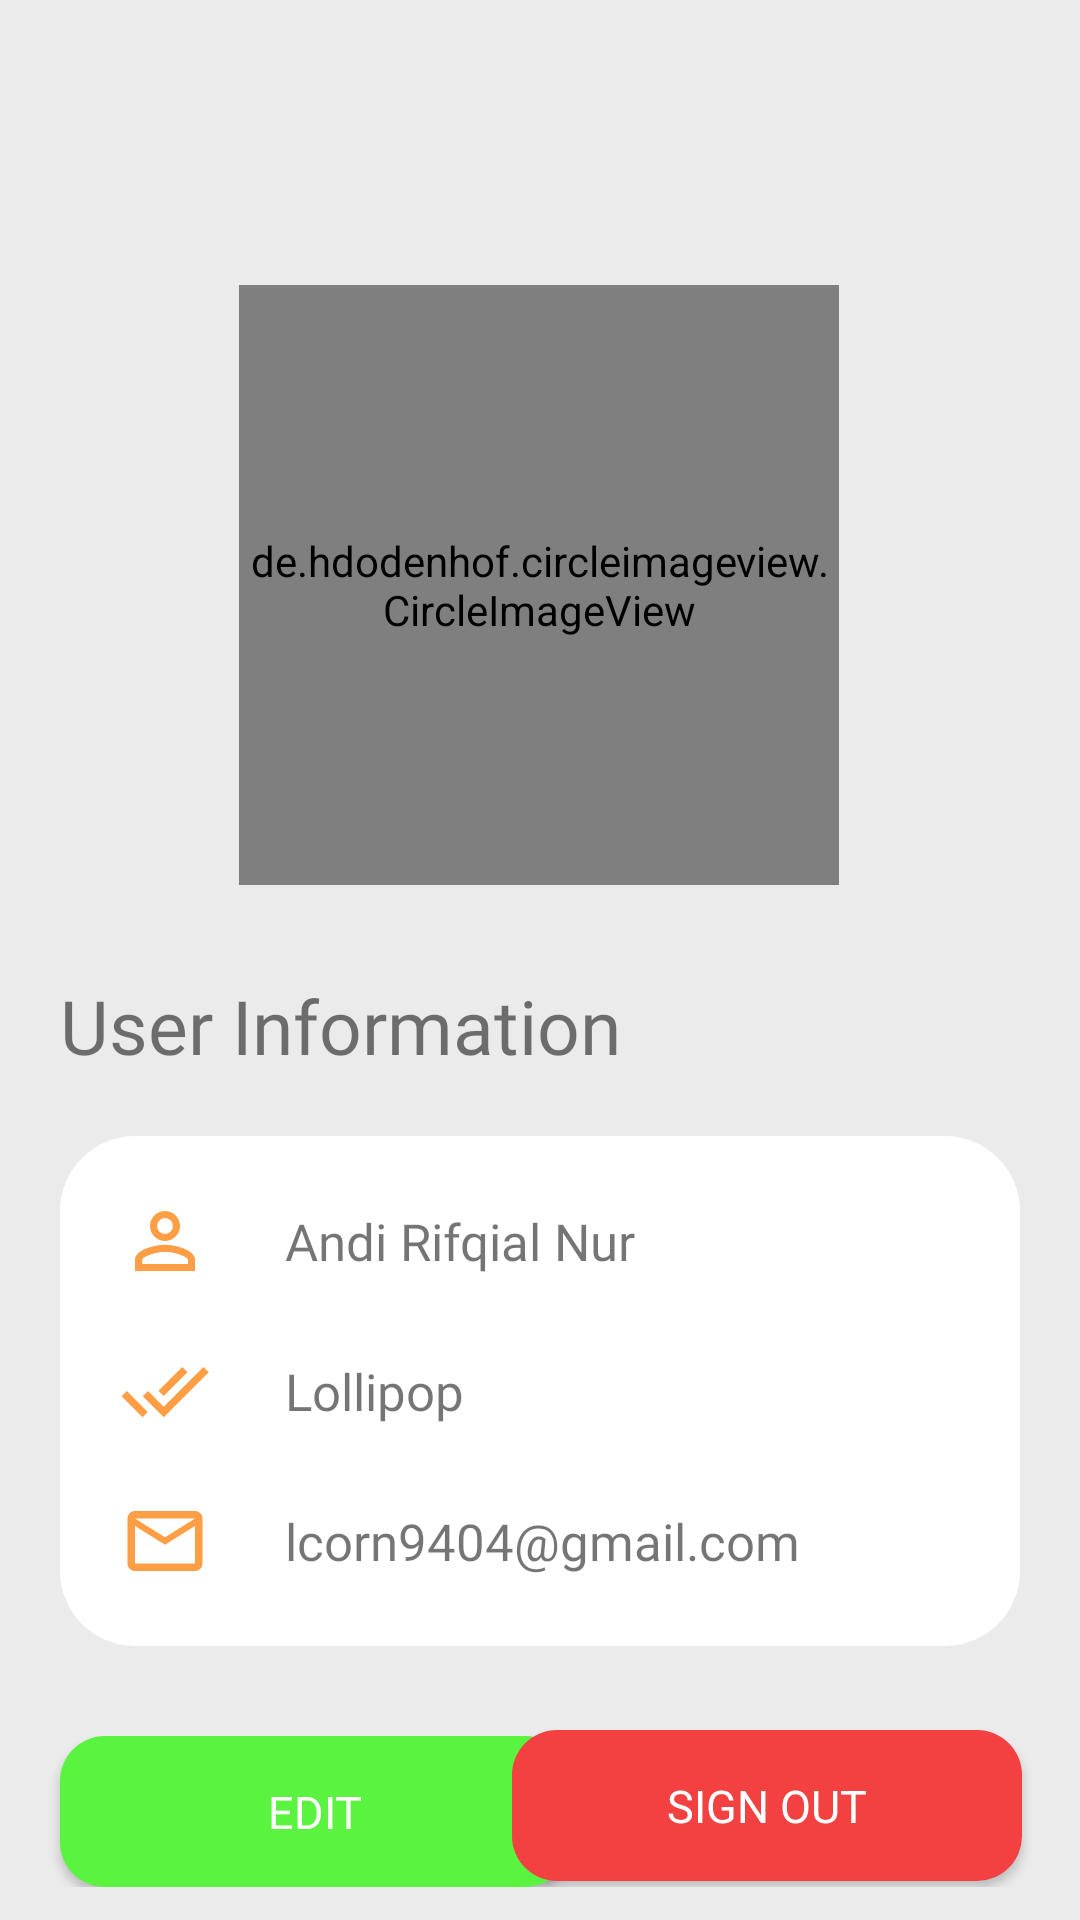

Icons on this 1080w x 1920h Android screen, each with its box as (x1, y1, x2, y2):
person: (135, 1211, 195, 1271)
